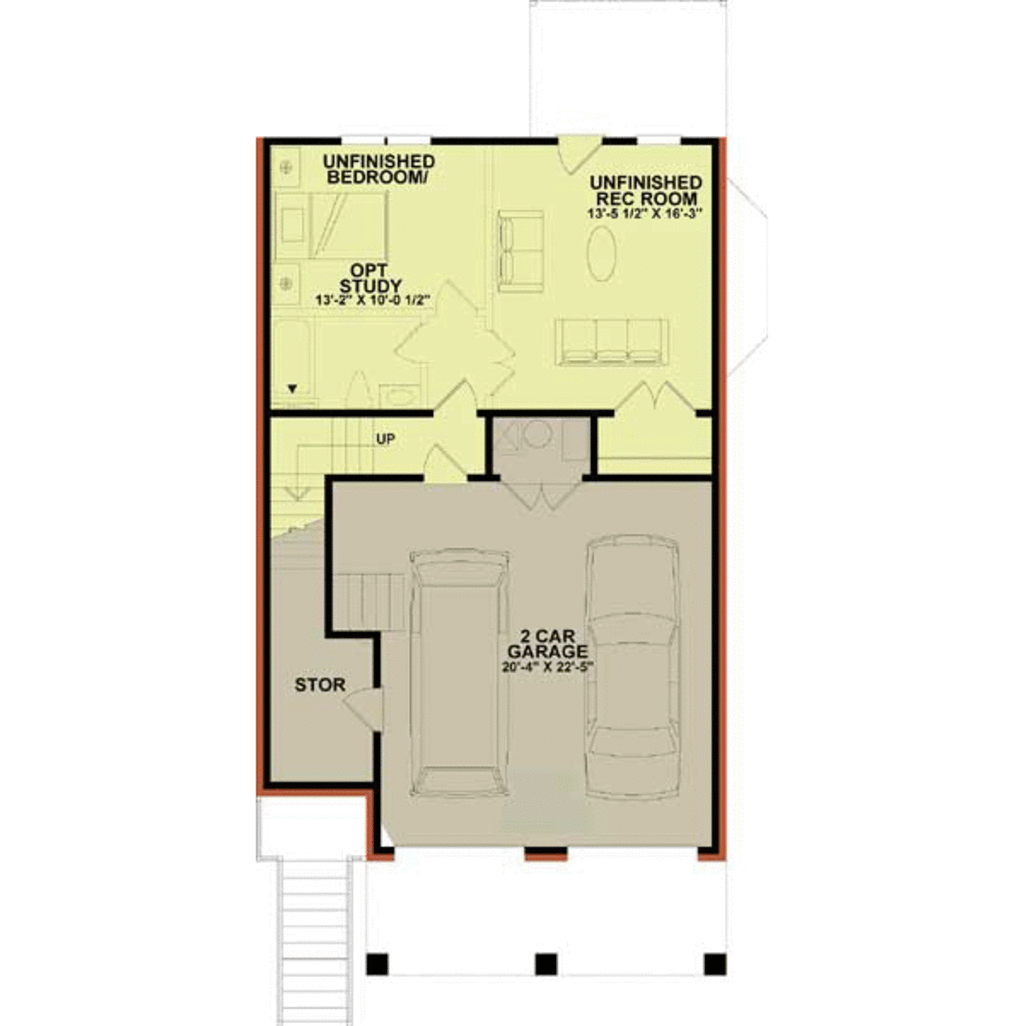bed: (275, 187, 392, 268)
door: (611, 381, 692, 423), (496, 473, 584, 511), (416, 442, 467, 484), (428, 281, 477, 317)
large_sofa: (553, 315, 672, 371), (492, 207, 546, 297)
stairs: (263, 411, 400, 581), (273, 854, 354, 1025)
tub: (273, 315, 313, 399)
